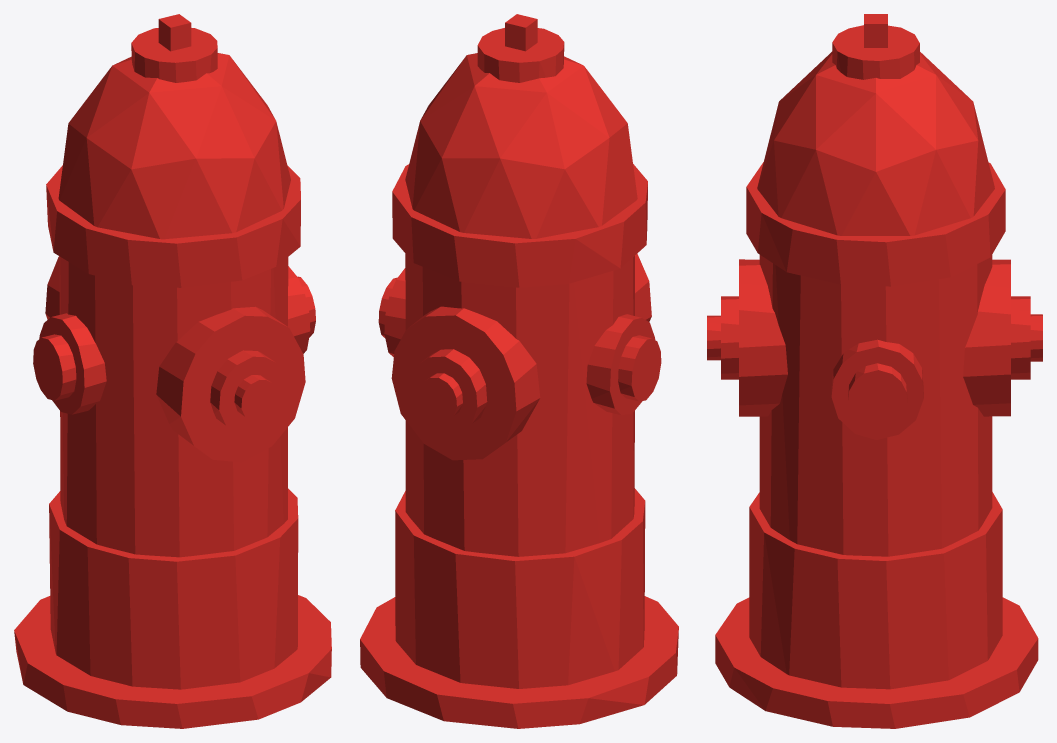
3 renders of one model, left to right at view 1: azimuth 30°, elevation 25°; view 2: azimuth 150°, elevation 25°; view 3: azimuth 270°, elevation 25°, orthographic.
Visible parts, largest first — view 1: Fire Hydrant; view 2: Fire Hydrant; view 3: Fire Hydrant.
Boxes of the visible parts, <box> form: Fire Hydrant: <box>14,14,331,728</box>; Fire Hydrant: <box>360,14,678,728</box>; Fire Hydrant: <box>707,14,1042,728</box>.
Size of the model in its own units: 0.3547 by 0.7883 by 0.3734.
